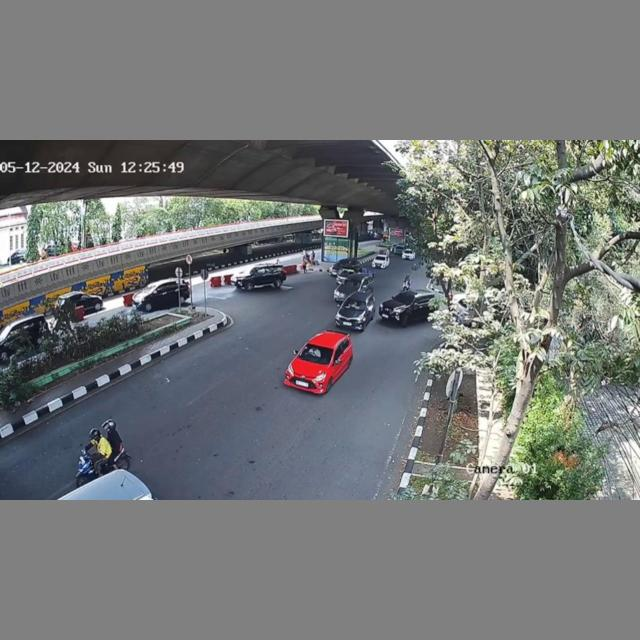windshield: (297, 343, 337, 368), (341, 298, 366, 313)
